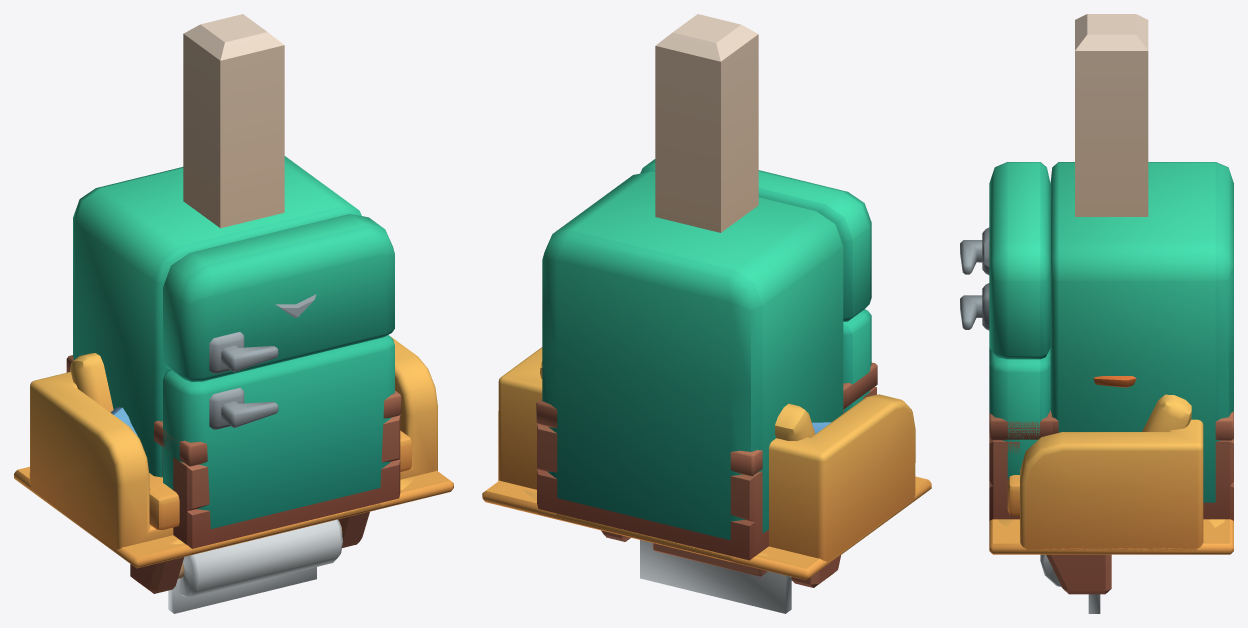
Rendered from props.glb.
The picture shows the model from 3 angles, left to right: view 1: azimuth 30°, elevation 25°; view 2: azimuth 150°, elevation 25°; view 3: azimuth 270°, elevation 25°; orthographic projection. The views are drawn at different scales.
Visible parts, largest first — view 1: fridge_A_door_bottom, fridge_A_door_top, Cube.616, couch_pillows, pillar_A, shelf_papertowel_decorated, rug_rectangle_stripes_A, crate_potatoes, crate_onions, crate_steak, crate_carrots, crate (+3 smaller); view 2: Cube.616, couch_pillows, pillar_A, fridge_A_door_top, shelf_papertowel_decorated, crate, rug_rectangle_stripes_A, crate_ham, table_medium, fridge_A_door_bottom, crate_cheese, crate_tomatoes (+3 smaller); view 3: Cube.616, couch_pillows, pillar_A, fridge_A_door_top, fridge_A_door_bottom, rug_rectangle_stripes_A, shelf_papertowel_decorated, table_medium, crate_lettuce, crate_tomatoes, crate_carrots, crate_onions (+4 smaller).
Part boxes in pixels (bbox=[...]): fridge_A_door_bottom: bbox=[163, 335, 394, 528]; fridge_A_door_top: bbox=[163, 214, 394, 381]; Cube.616: bbox=[73, 156, 361, 477]; couch_pillows: bbox=[29, 336, 437, 551]; pillar_A: bbox=[183, 14, 284, 228]; shelf_papertowel_decorated: bbox=[130, 511, 369, 613]; rug_rectangle_stripes_A: bbox=[14, 466, 453, 568]; crate_potatoes: bbox=[181, 418, 400, 548]; crate_onions: bbox=[162, 422, 400, 542]; crate_steak: bbox=[181, 458, 399, 548]; crate_carrots: bbox=[173, 458, 400, 541]; crate: bbox=[162, 426, 400, 544]; Cube.616: bbox=[542, 171, 843, 540]; couch_pillows: bbox=[498, 347, 915, 562]; pillar_A: bbox=[655, 14, 758, 232]; fridge_A_door_top: bbox=[640, 159, 871, 321]; shelf_papertowel_decorated: bbox=[601, 530, 840, 613]; crate: bbox=[537, 387, 876, 559]; rug_rectangle_stripes_A: bbox=[482, 476, 931, 580]; crate_ham: bbox=[538, 468, 759, 559]; table_medium: bbox=[536, 362, 877, 476]; fridge_A_door_bottom: bbox=[843, 309, 871, 412]; crate_cheese: bbox=[537, 387, 876, 559]; crate_tomatoes: bbox=[537, 395, 867, 544]; Cube.616: bbox=[1050, 162, 1233, 502]; couch_pillows: bbox=[1007, 394, 1203, 550]; pillar_A: bbox=[1075, 14, 1148, 216]; fridge_A_door_top: bbox=[960, 162, 1050, 359]; fridge_A_door_bottom: bbox=[960, 283, 1050, 479]; rug_rectangle_stripes_A: bbox=[989, 519, 1233, 554]; shelf_papertowel_decorated: bbox=[1040, 554, 1111, 613]; table_medium: bbox=[989, 410, 1233, 440]; crate_lettuce: bbox=[989, 441, 1233, 502]; crate_tomatoes: bbox=[989, 442, 1233, 519]; crate_carrots: bbox=[989, 449, 1233, 519]; crate_onions: bbox=[993, 447, 1233, 519].
Size of the model in its own units: 3 by 5.01 by 2.24.
Materials: 2 (2 with a texture image).
